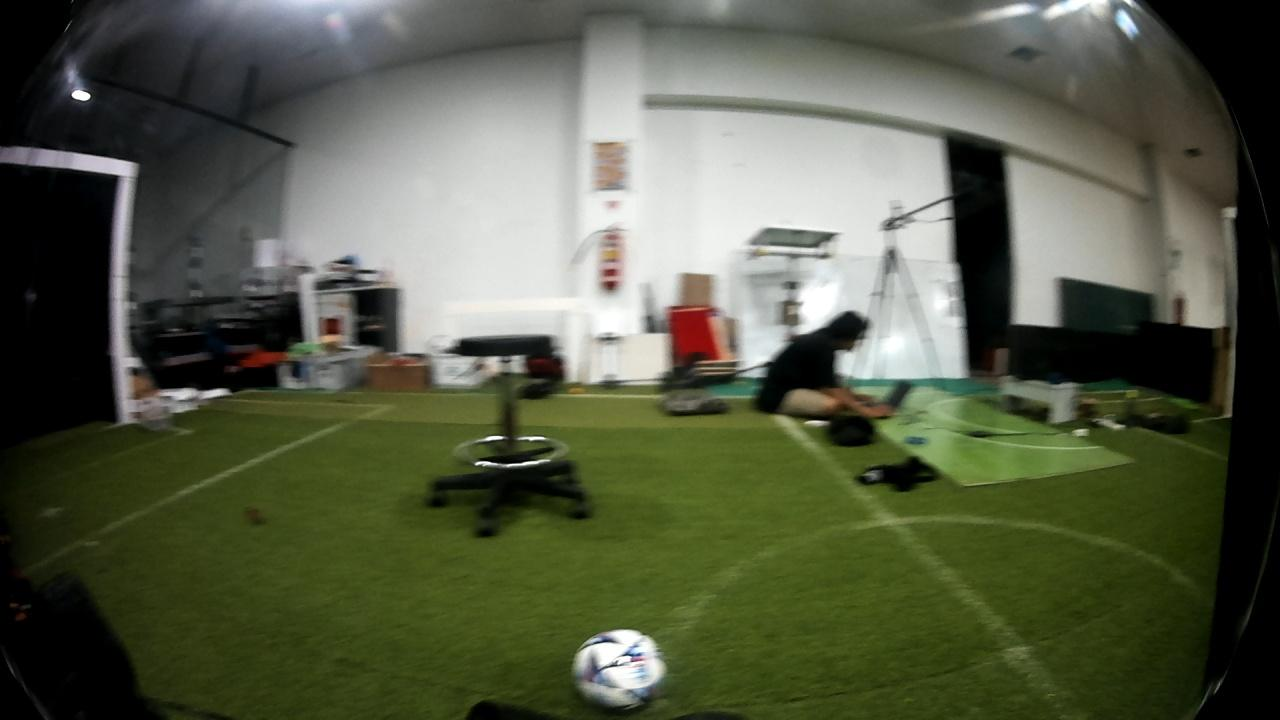ball: (570, 620, 673, 712)
